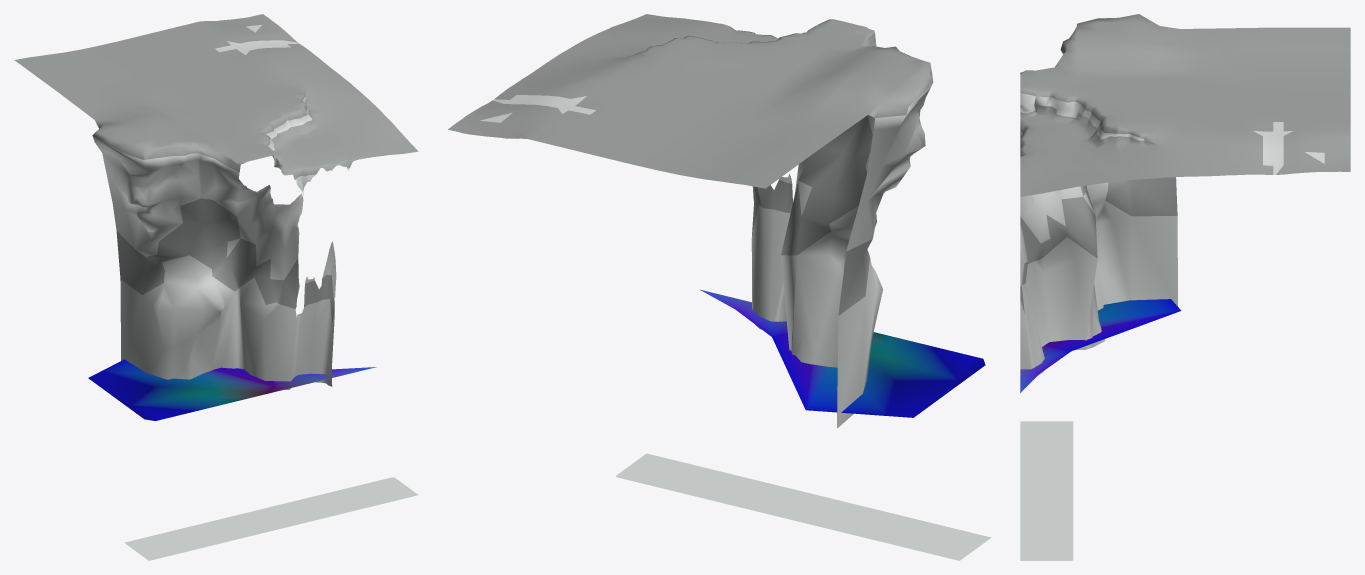
3 views of the same model, side by side, from view 1: azimuth 30°, elevation 25°; view 2: azimuth 150°, elevation 25°; view 3: azimuth 270°, elevation 25° (orthographic). The views are drawn at different scales.
Visible parts, largest first — view 1: G:\FFXIV-MapTools\exports\w1f5\bg\ffxiv\wil_w1\fld\w1f5\bgpl (×14); view 2: G:\FFXIV-MapTools\exports\w1f5\bg\ffxiv\wil_w1\fld\w1f5\bgpl (×13); view 3: G:\FFXIV-MapTools\exports\w1f5\bg\ffxiv\wil_w1\fld\w1f5\bgpl (×13).
Boxes of the visible parts, x1,y1,x2,y2 form: G:\FFXIV-MapTools\exports\w1f5\bg\ffxiv\wil_w1\fld\w1f5\bgpl (×14): [14, 14, 418, 560]; G:\FFXIV-MapTools\exports\w1f5\bg\ffxiv\wil_w1\fld\w1f5\bgpl (×13): [448, 14, 991, 560]; G:\FFXIV-MapTools\exports\w1f5\bg\ffxiv\wil_w1\fld\w1f5\bgpl (×13): [1020, 14, 1350, 560].
Size of the model in its own units: 128 by 175 by 128.
